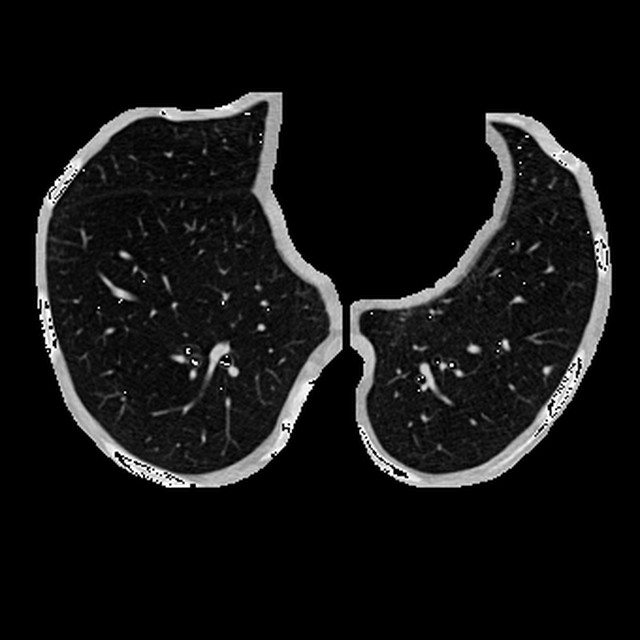PN: (542, 365, 550, 373)
